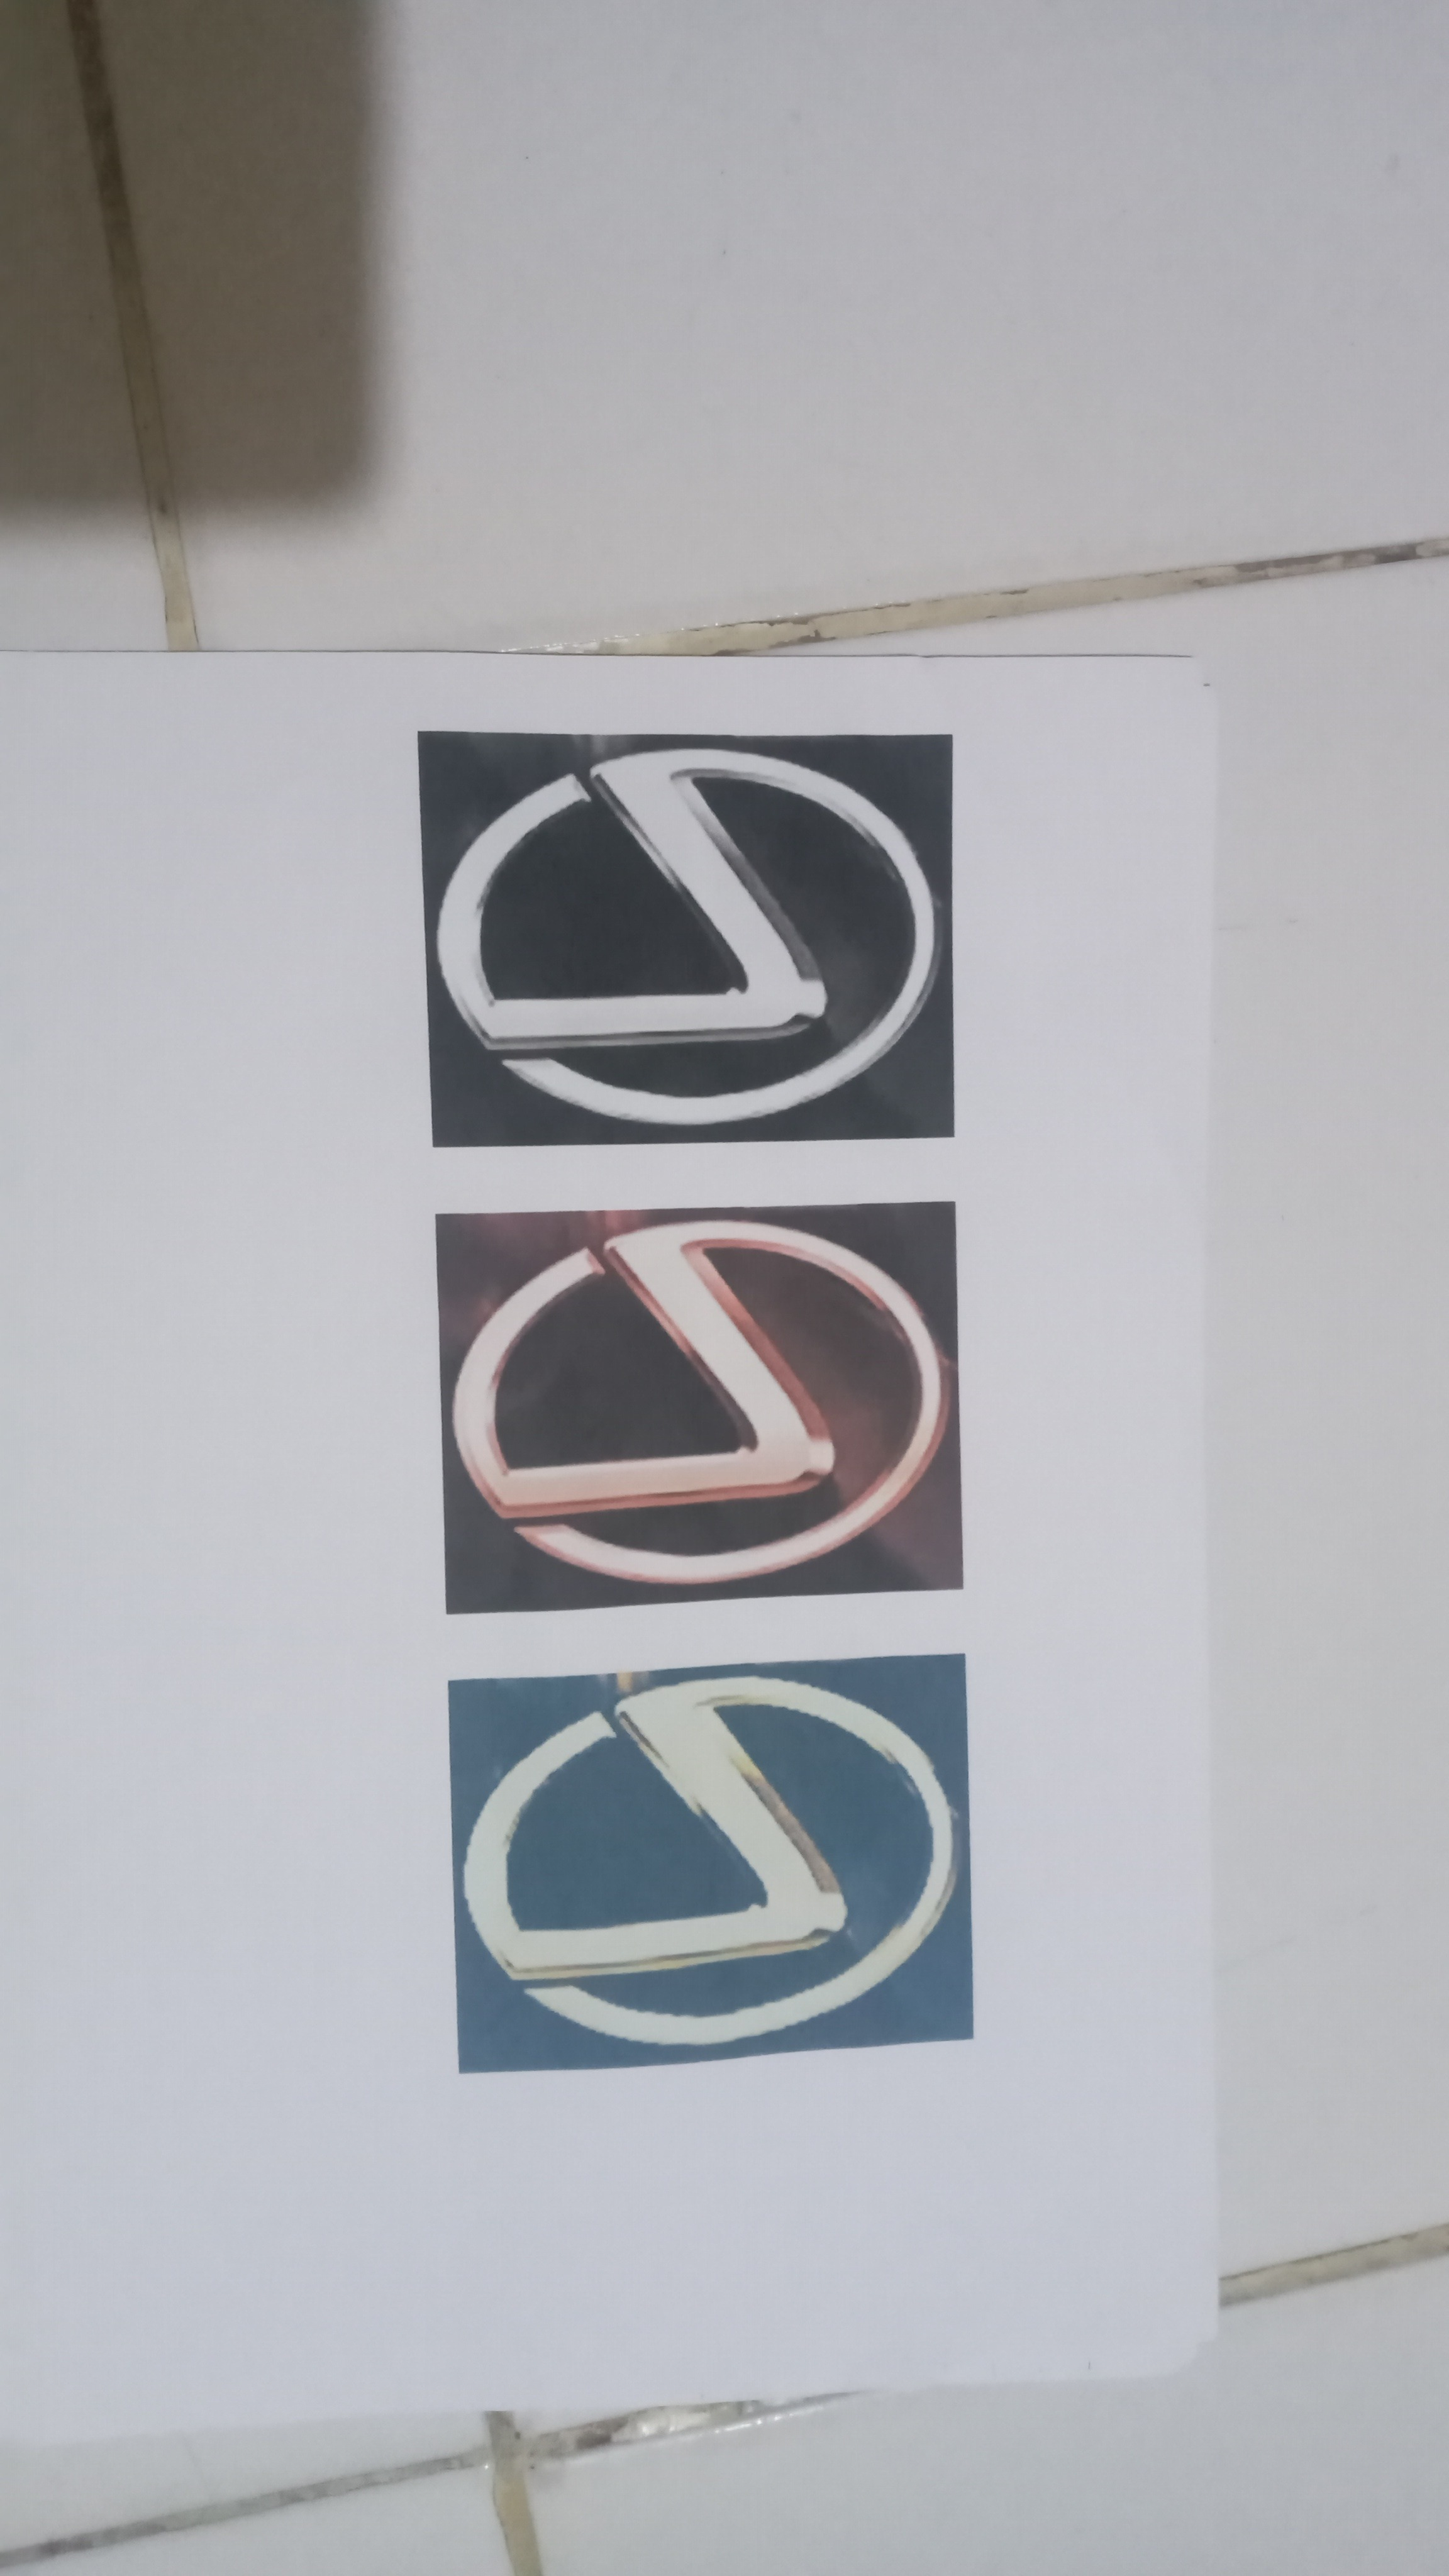Lexus: (414, 745, 954, 1146), (446, 1214, 955, 1596), (458, 1674, 964, 2051)
